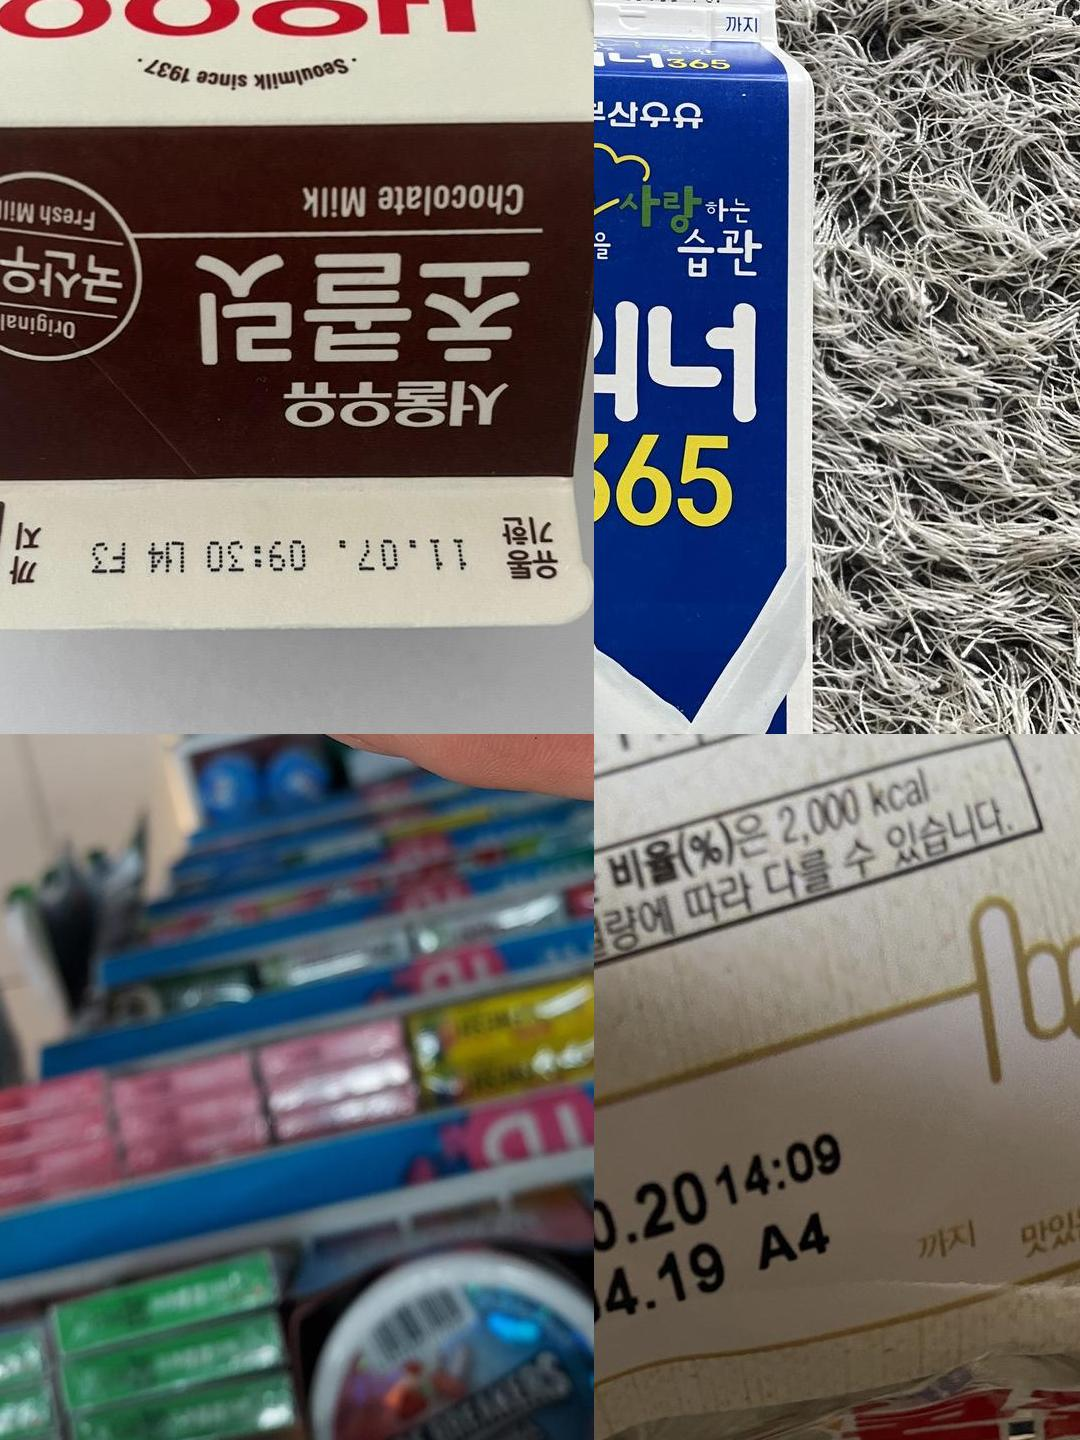gum: (457, 734, 594, 765)
milk: (0, 477, 594, 621), (594, 0, 773, 43)
snack food: (594, 1134, 889, 1369)
